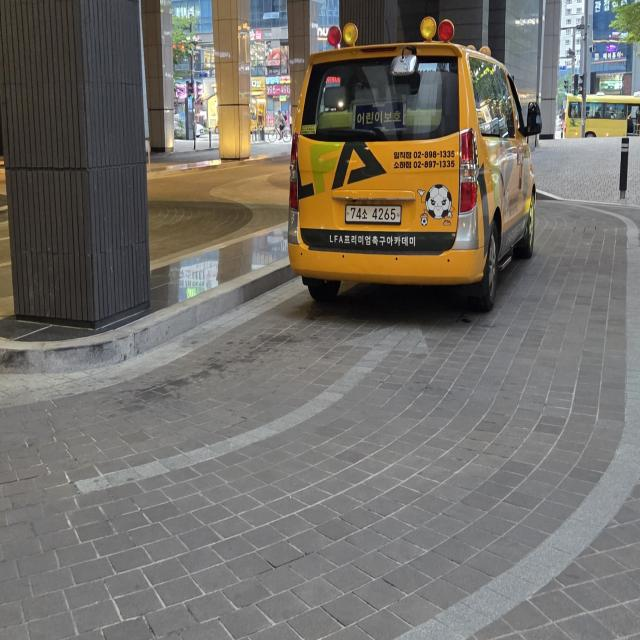car: (286, 12, 548, 333)
